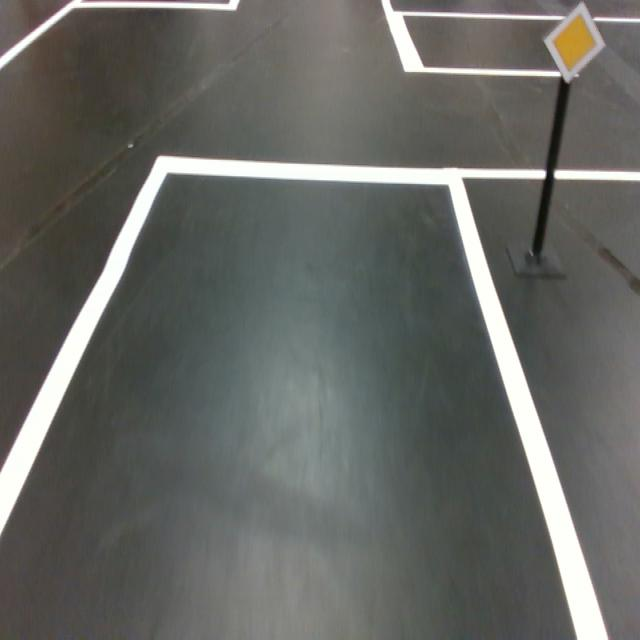priority-sign: (542, 0, 607, 85)
